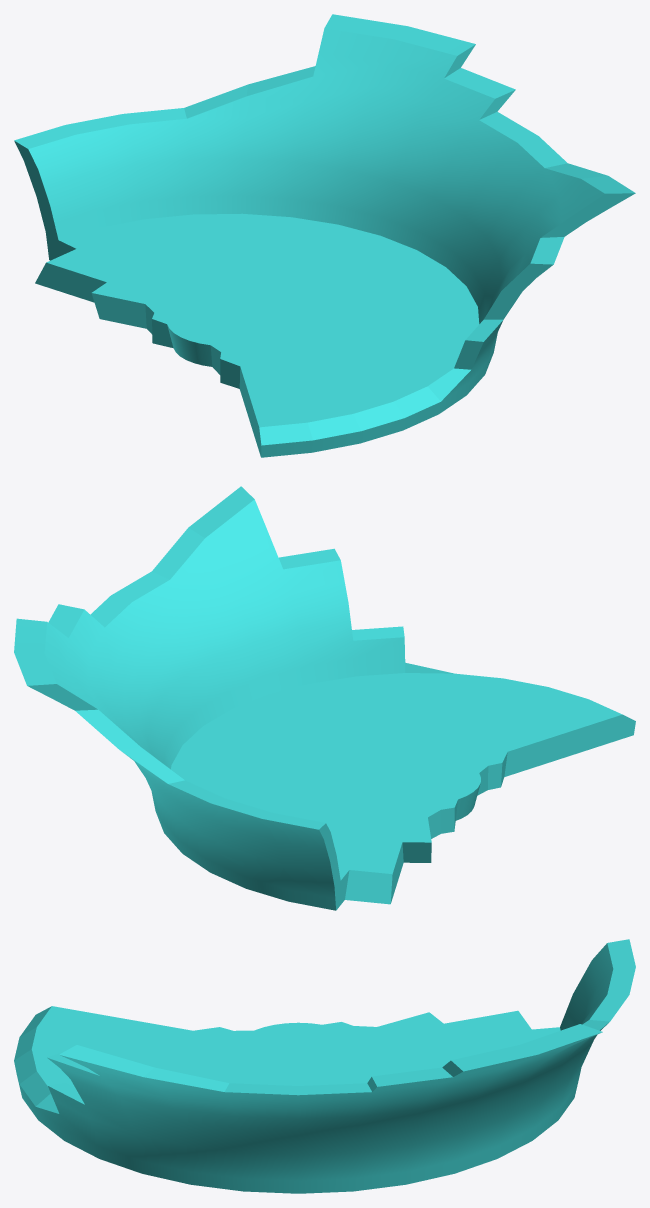
The model's file is VaseBroken7.fbx.
3 views of the same model, one above another, from view 1: azimuth 30°, elevation 25°; view 2: azimuth 150°, elevation 25°; view 3: azimuth 270°, elevation 25° (orthographic). The views are drawn at different scales.
Parts seen in each view (by area): view 1: vaseWhole; view 2: vaseWhole; view 3: vaseWhole.
Boxes of the visible parts, x1,y1,x2,y2 form: vaseWhole: [14, 14, 635, 457]; vaseWhole: [14, 486, 635, 910]; vaseWhole: [14, 939, 635, 1193].
Size of the model in its own units: 18.01 by 6.73 by 22.09.
